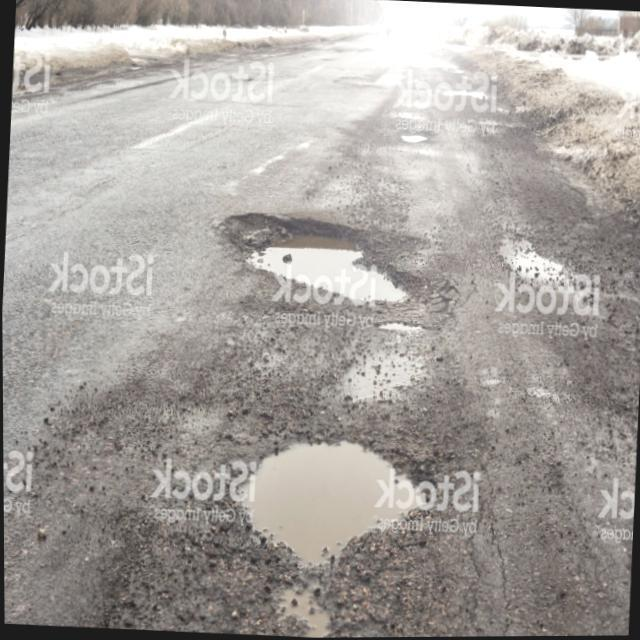Pothole: (48, 344, 502, 638), (225, 210, 423, 308), (398, 128, 433, 149)
